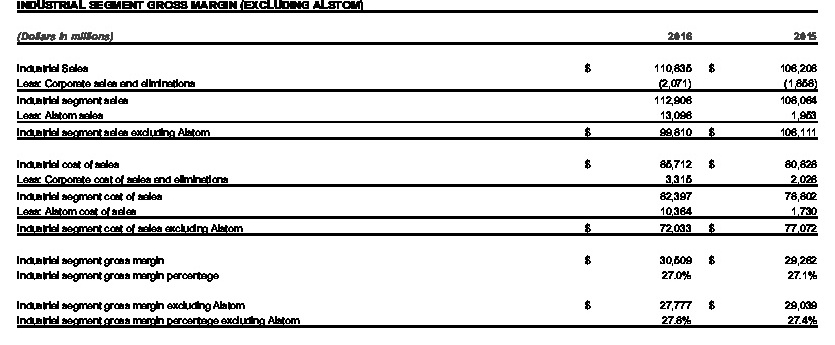table: (0, 0, 835, 345)
